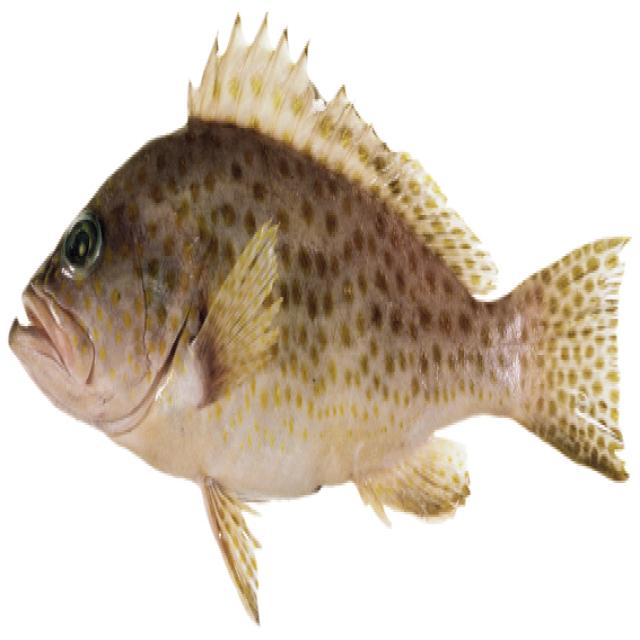ikan: (4, 21, 630, 623)
